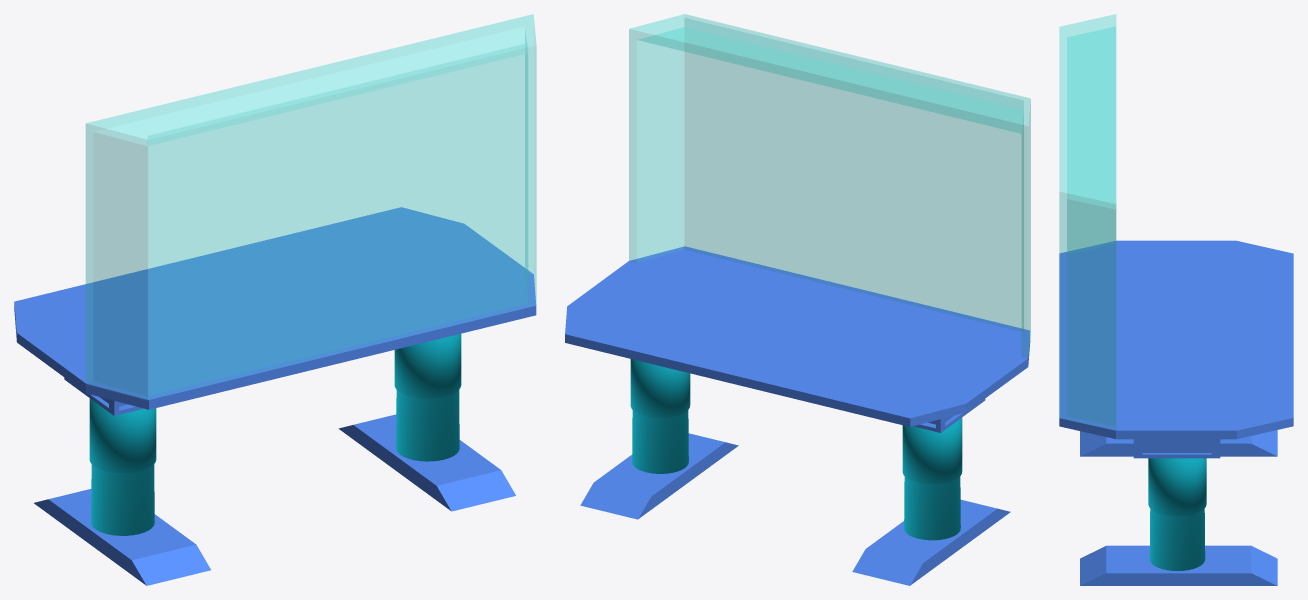
The model's file is table_tier13.fbx.
The picture shows the model from 3 angles, left to right: view 1: azimuth 30°, elevation 25°; view 2: azimuth 150°, elevation 25°; view 3: azimuth 270°, elevation 25°; orthographic projection. The views are drawn at different scales.
Parts seen in each view (by area): view 1: Cube, Cube.008, Cylinder, Cylinder.001, Cube.003, Cube.004; view 2: Cube, Cube.008, Cylinder, Cylinder.001, Cube.003, Cube.004; view 3: Cube.008, Cube, Cube.004, Cylinder.001, Cube.003, Cube.005.
Boxes of the visible parts, x1=… form: Cube: x1=86, y1=14, x2=536, y2=400; Cube.008: x1=14, y1=207, x2=536, y2=409; Cylinder: x1=89, y1=398, x2=156, y2=535; Cylinder.001: x1=394, y1=333, x2=461, y2=461; Cube.003: x1=34, y1=489, x2=210, y2=585; Cube.004: x1=338, y1=414, x2=515, y2=511; Cube: x1=629, y1=14, x2=1030, y2=358; Cube.008: x1=565, y1=246, x2=1030, y2=426; Cylinder: x1=902, y1=417, x2=962, y2=540; Cylinder.001: x1=630, y1=359, x2=690, y2=473; Cube.003: x1=852, y1=499, x2=1010, y2=585; Cube.004: x1=580, y1=433, x2=738, y2=519; Cube.008: x1=1059, y1=240, x2=1293, y2=439; Cube: x1=1059, y1=14, x2=1116, y2=430; Cube.004: x1=1080, y1=545, x2=1277, y2=585; Cylinder.001: x1=1148, y1=458, x2=1206, y2=570; Cube.003: x1=1080, y1=430, x2=1277, y2=456; Cube.005: x1=1133, y1=439, x2=1220, y2=458.
Size of the model in its own units: 209 by 203 by 108.
